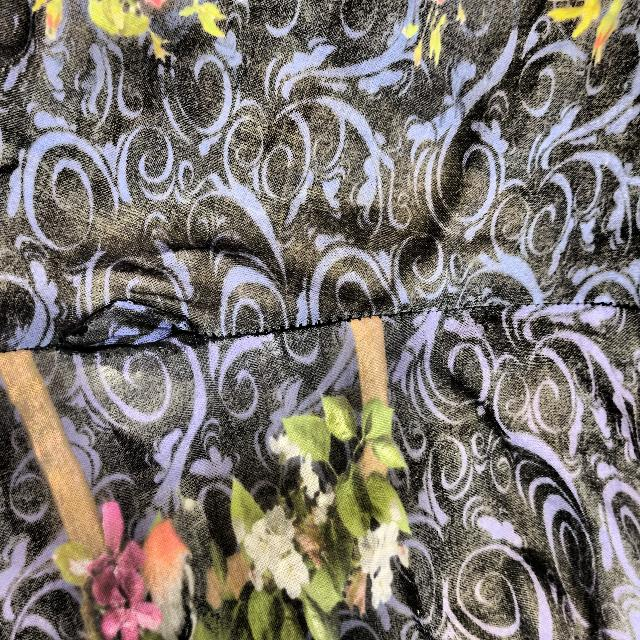seam: (38, 283, 230, 389)
